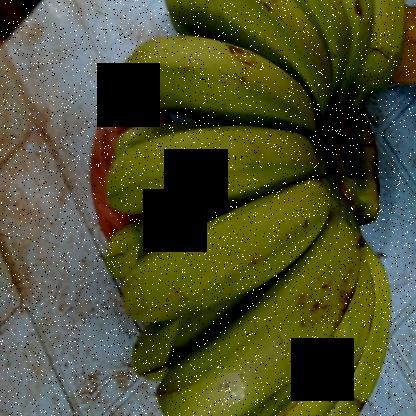freshunripe: (116, 177, 332, 324), (103, 112, 325, 221)
unripe: (155, 215, 363, 415), (163, 0, 338, 110), (114, 31, 311, 127)
